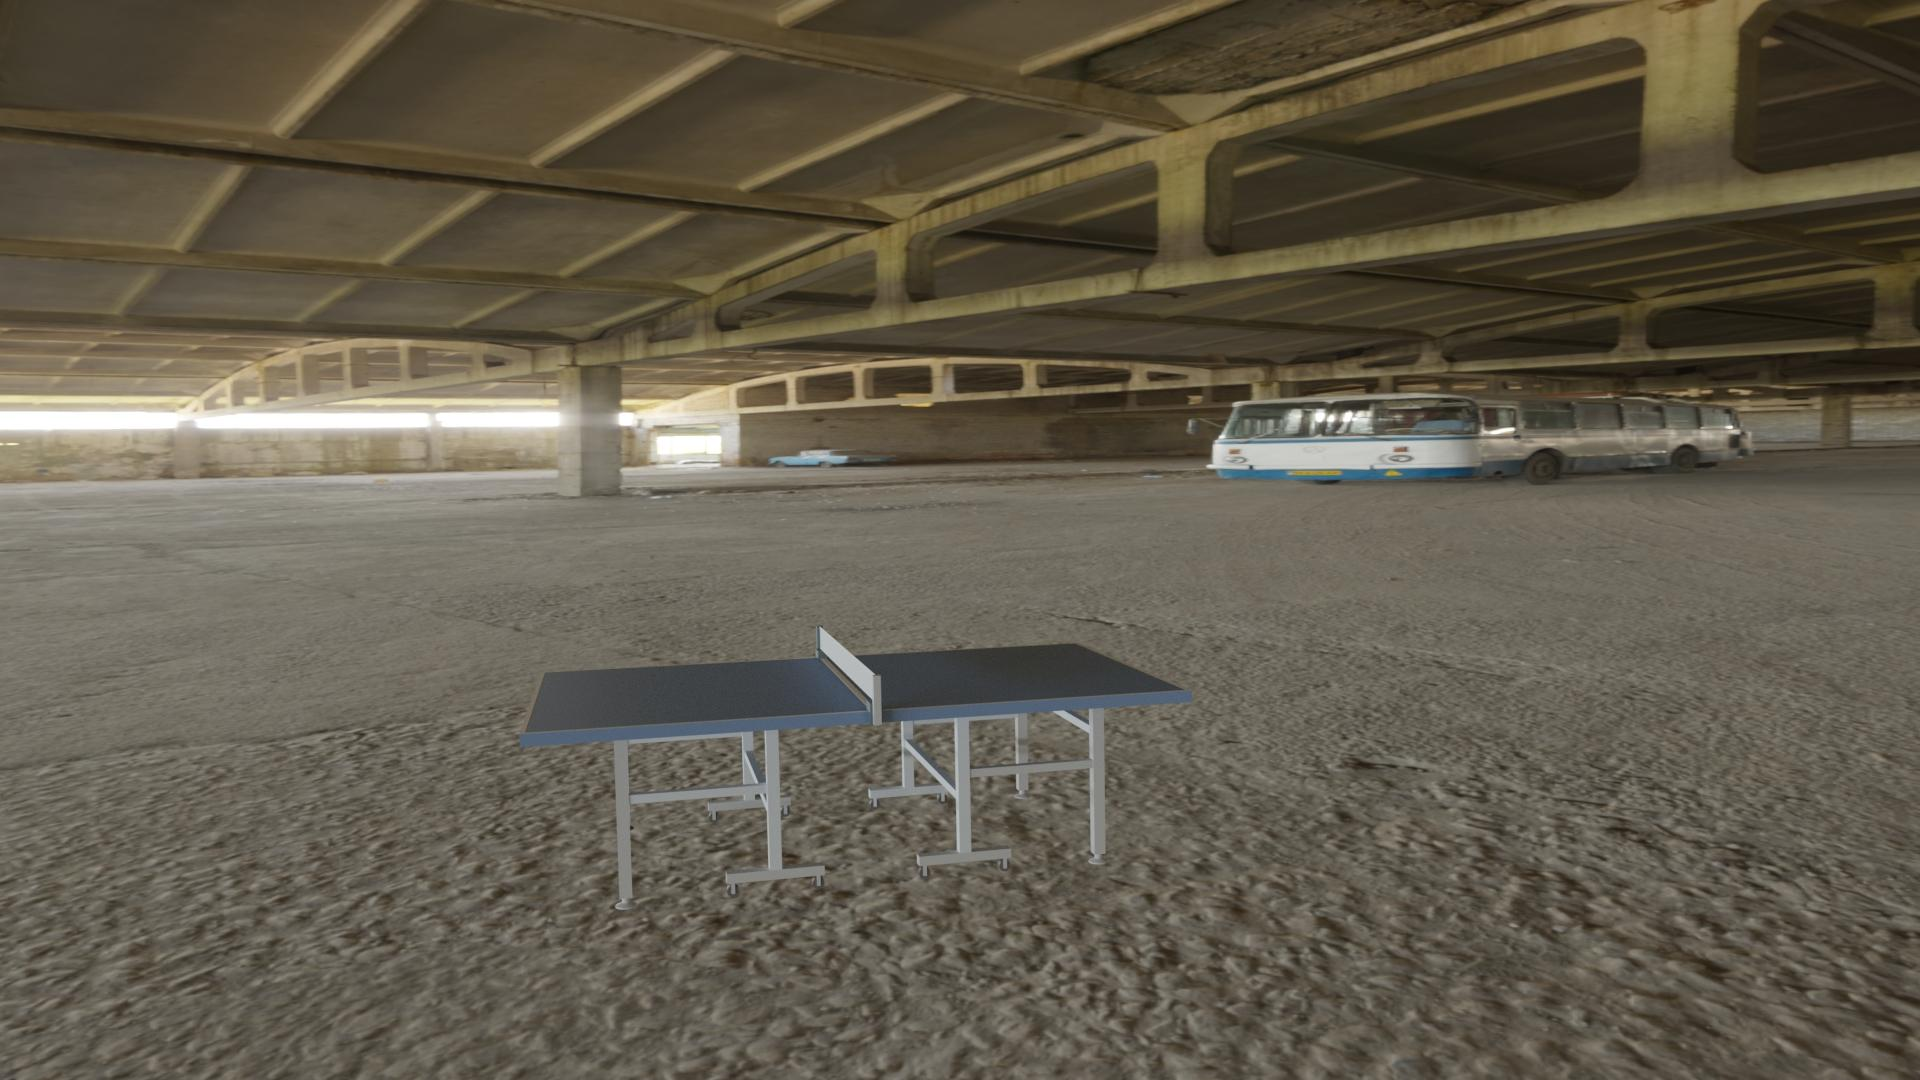table: (525, 643, 1186, 733)
